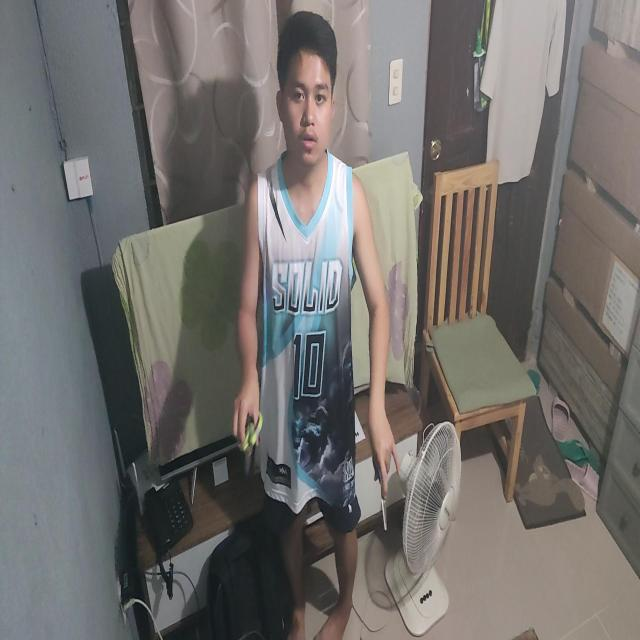scissor: (369, 454, 390, 533), (237, 415, 264, 476)
